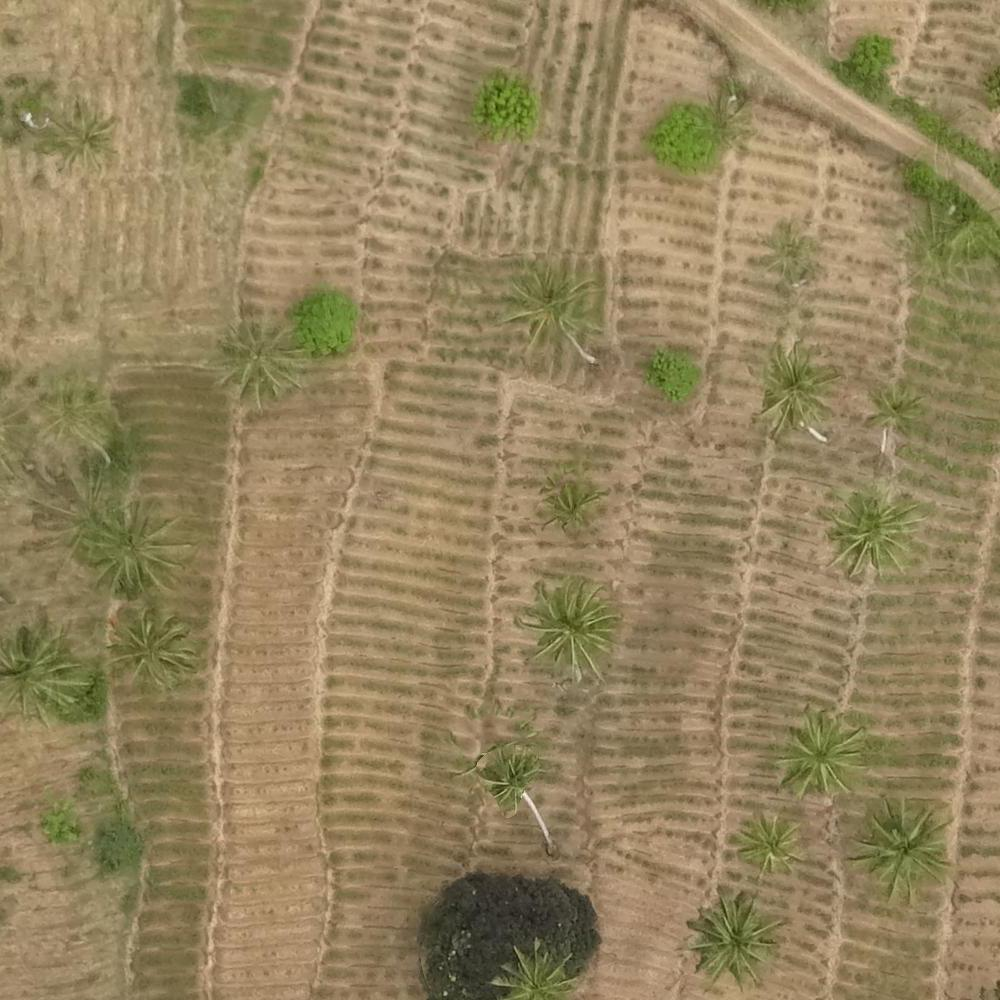Palm: (851, 797, 954, 895), (84, 505, 185, 598), (521, 579, 612, 674), (769, 711, 869, 795), (214, 316, 303, 409), (688, 894, 779, 983), (755, 346, 843, 438), (820, 488, 913, 574), (506, 258, 600, 343), (3, 628, 86, 723), (112, 614, 202, 692), (734, 816, 808, 875), (494, 947, 571, 1000), (479, 752, 546, 809), (539, 478, 601, 531), (868, 380, 920, 439)
